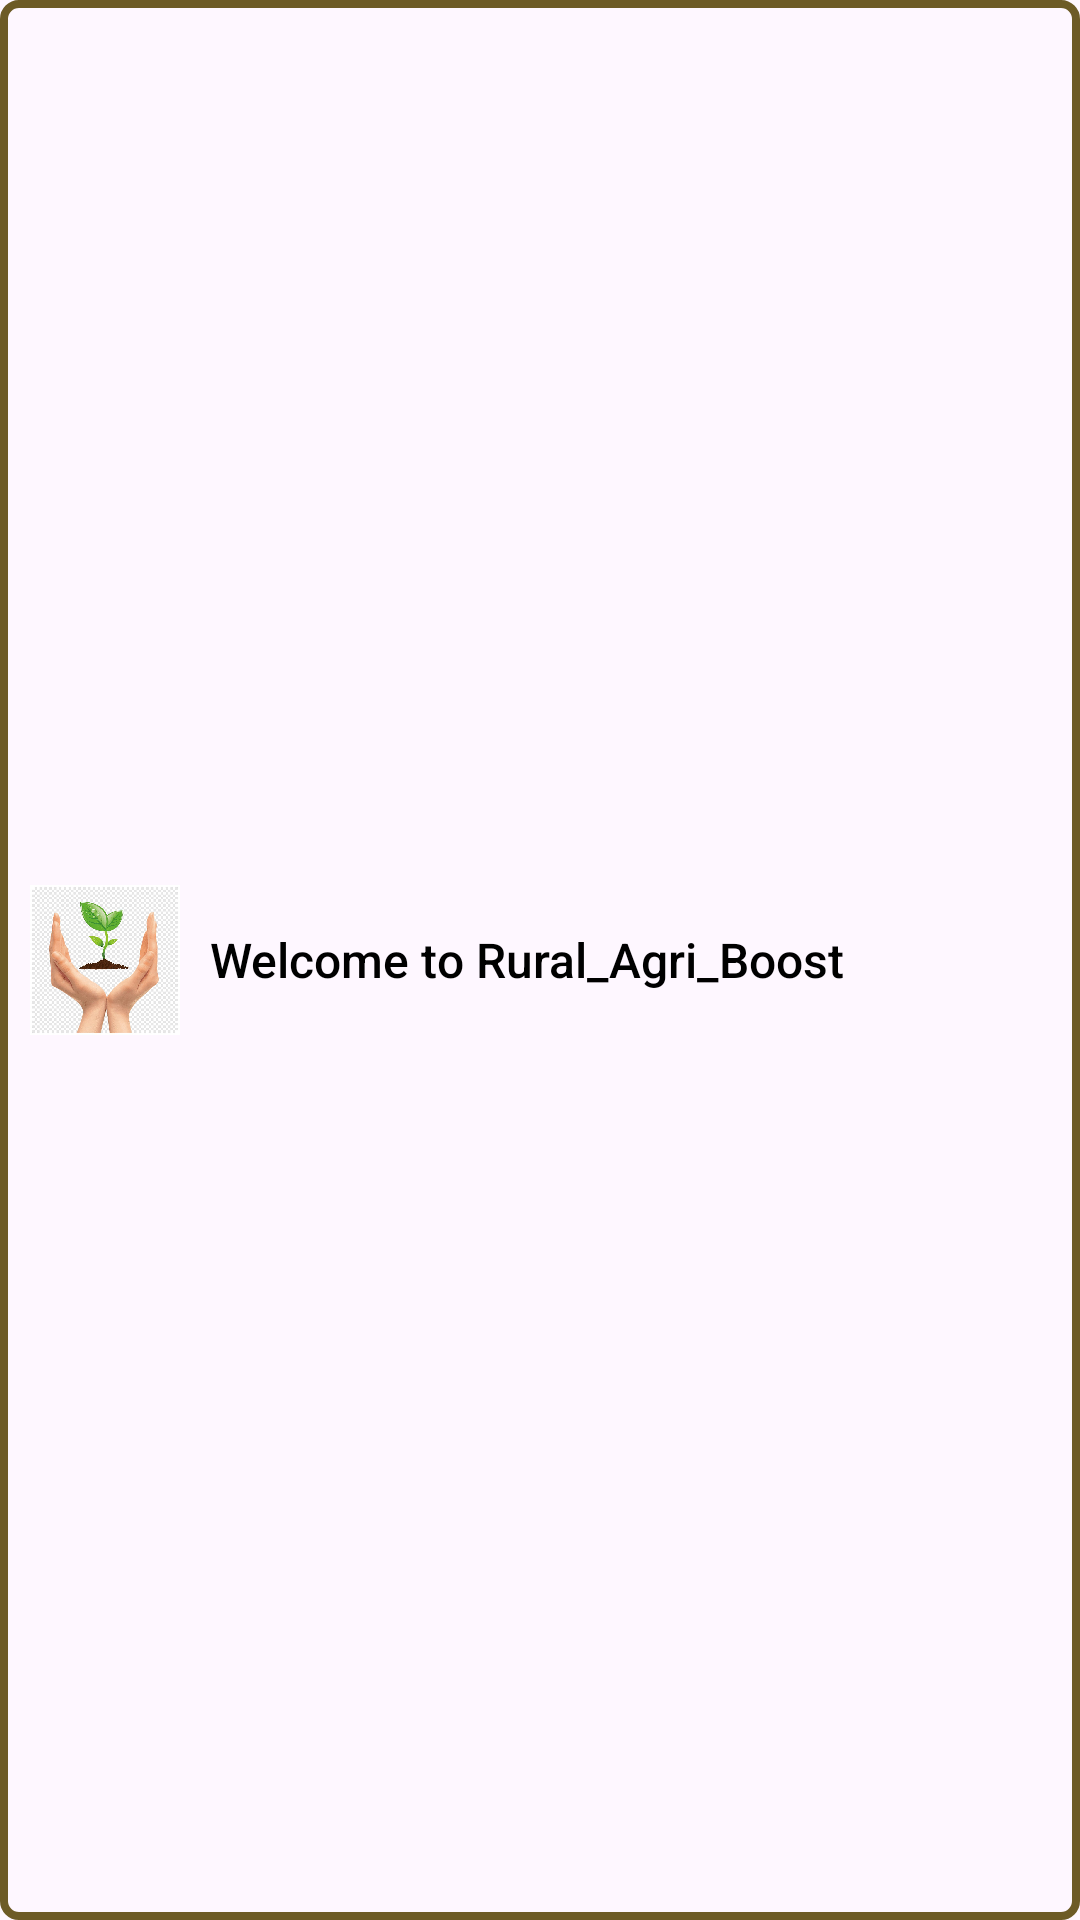

Icons on this 1080*1920 Android screen, each with the point to tap as [x,y]:
agri home: [105,960]
